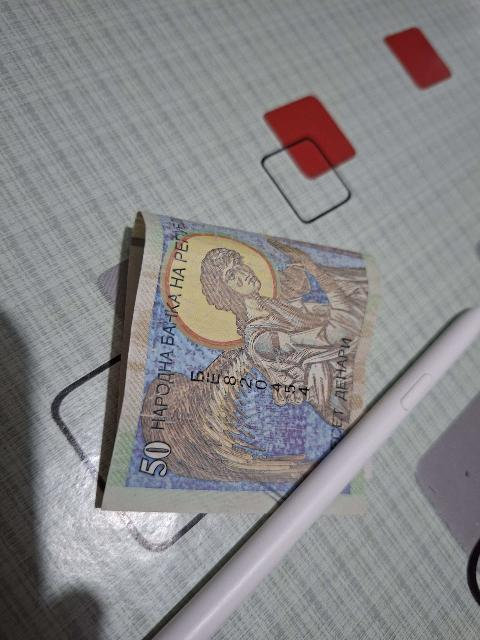note: (103, 214, 378, 512)
